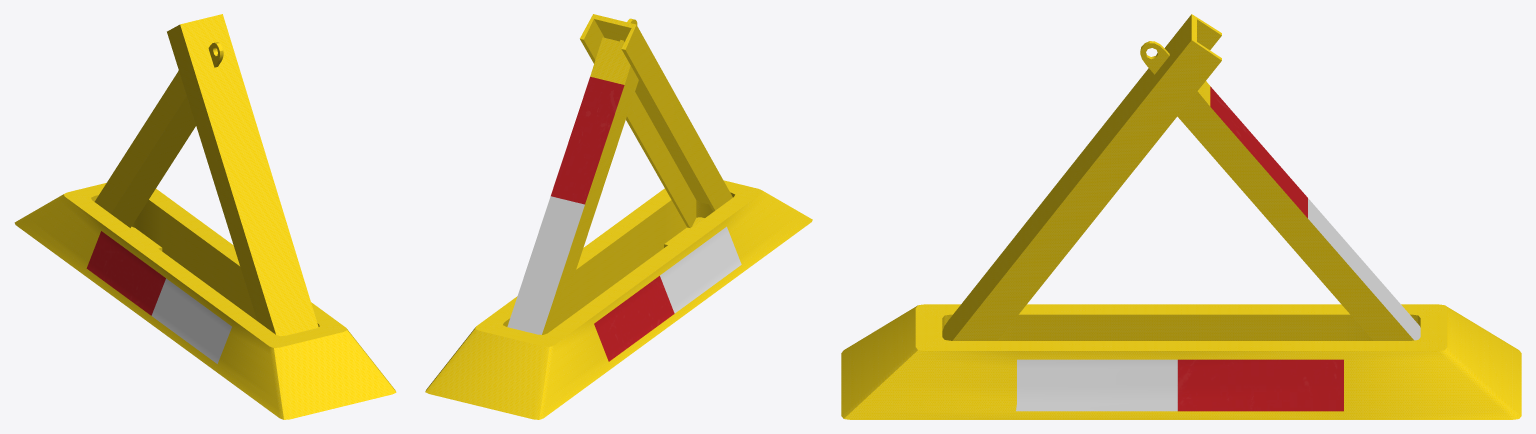
File: sm_disuo.fbx
3 views of the same model, side by side, from view 1: azimuth 30°, elevation 25°; view 2: azimuth 150°, elevation 25°; view 3: azimuth 270°, elevation 25° (orthographic). The views are drawn at different scales.
Visible parts, largest first — view 1: sm_disuo; view 2: sm_disuo; view 3: sm_disuo.
Boxes of the visible parts, x1,y1,x2,y2 form: sm_disuo: [14, 14, 396, 419]; sm_disuo: [425, 14, 812, 419]; sm_disuo: [841, 14, 1521, 419].
Bounding box in the file's own units: 0.16 × 0.377 × 0.65.
